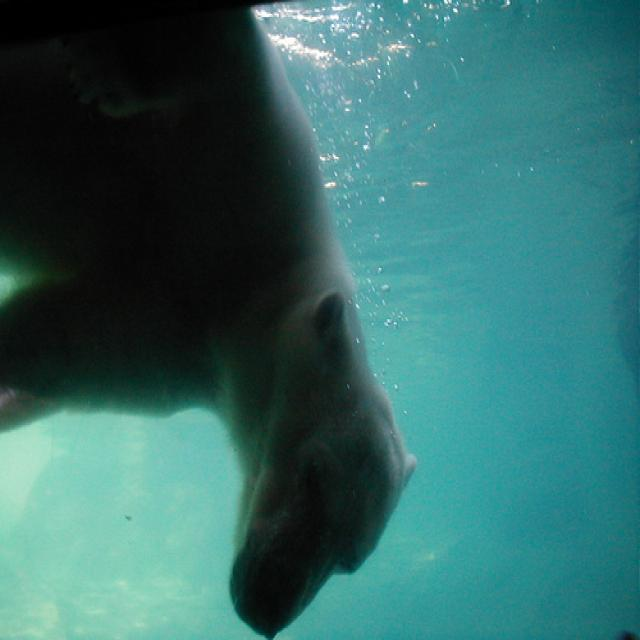Bear: (0, 3, 424, 640)
